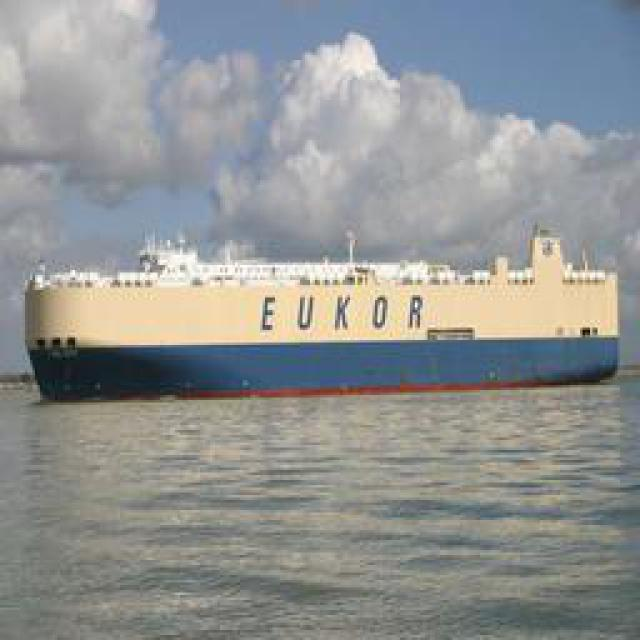Ship: (14, 228, 629, 406)
